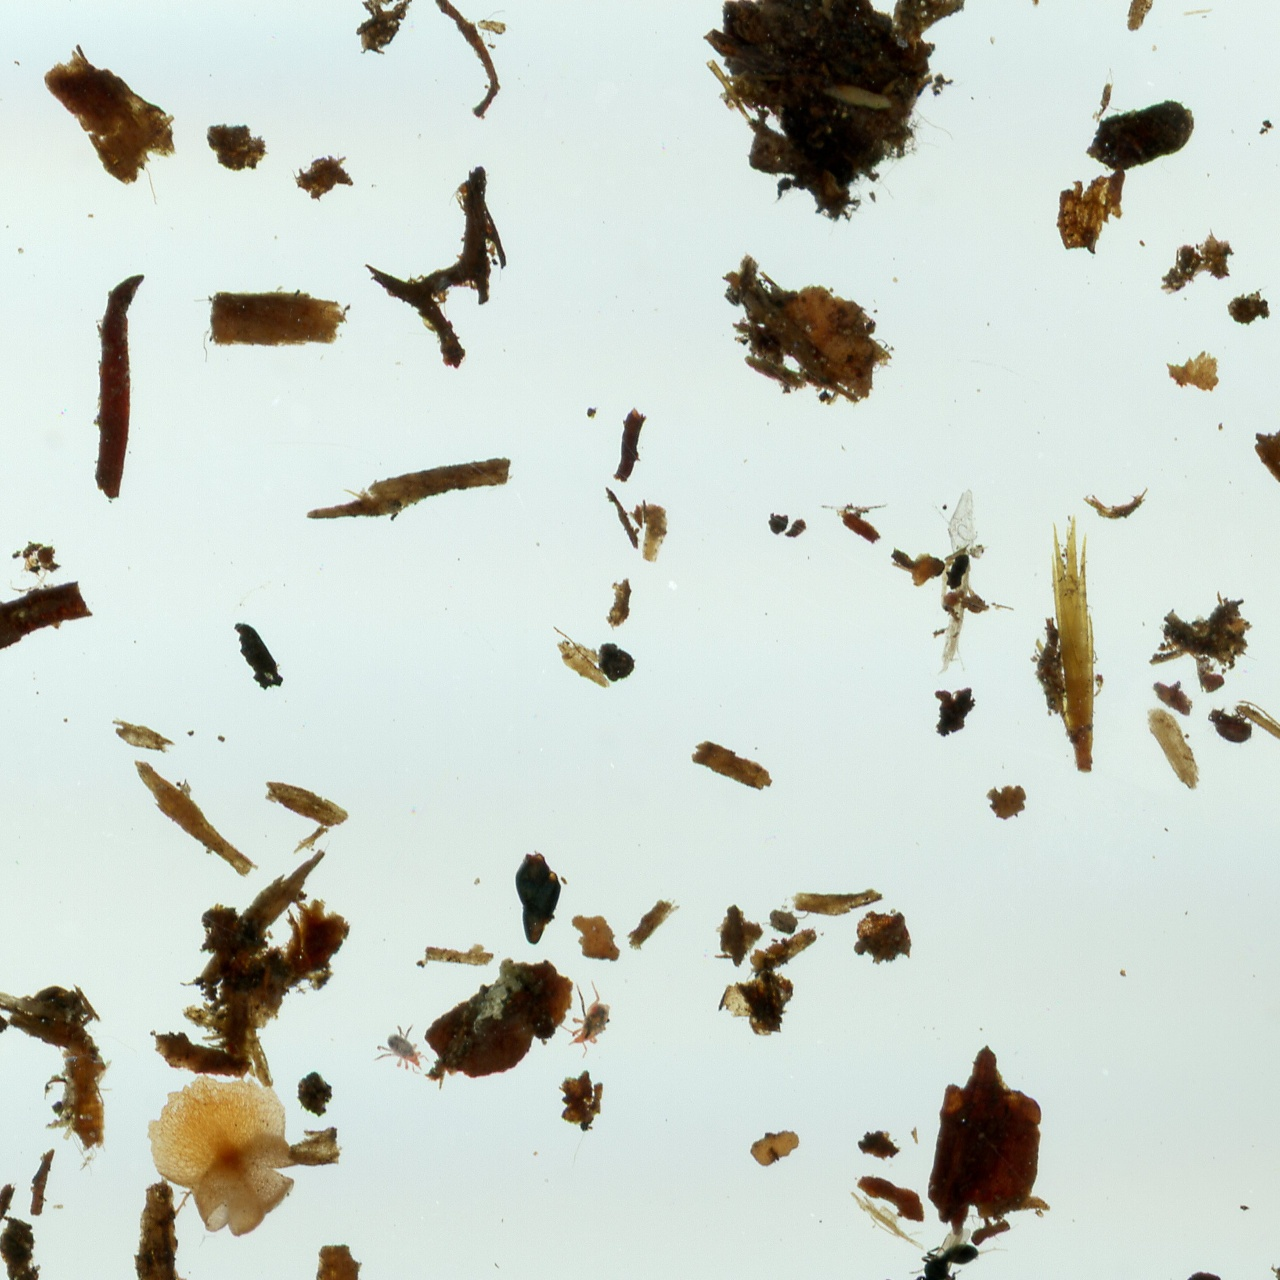arthropod: (880, 1220, 983, 1280), (557, 976, 613, 1061), (1199, 697, 1264, 753), (373, 1022, 430, 1076)
